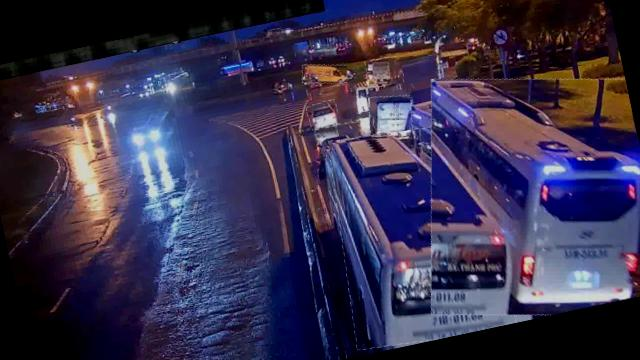Bus: (397, 49, 640, 336), (318, 112, 526, 354), (300, 57, 350, 90)
Car: (306, 99, 341, 131)
Truck: (364, 90, 416, 142), (364, 54, 406, 88)
